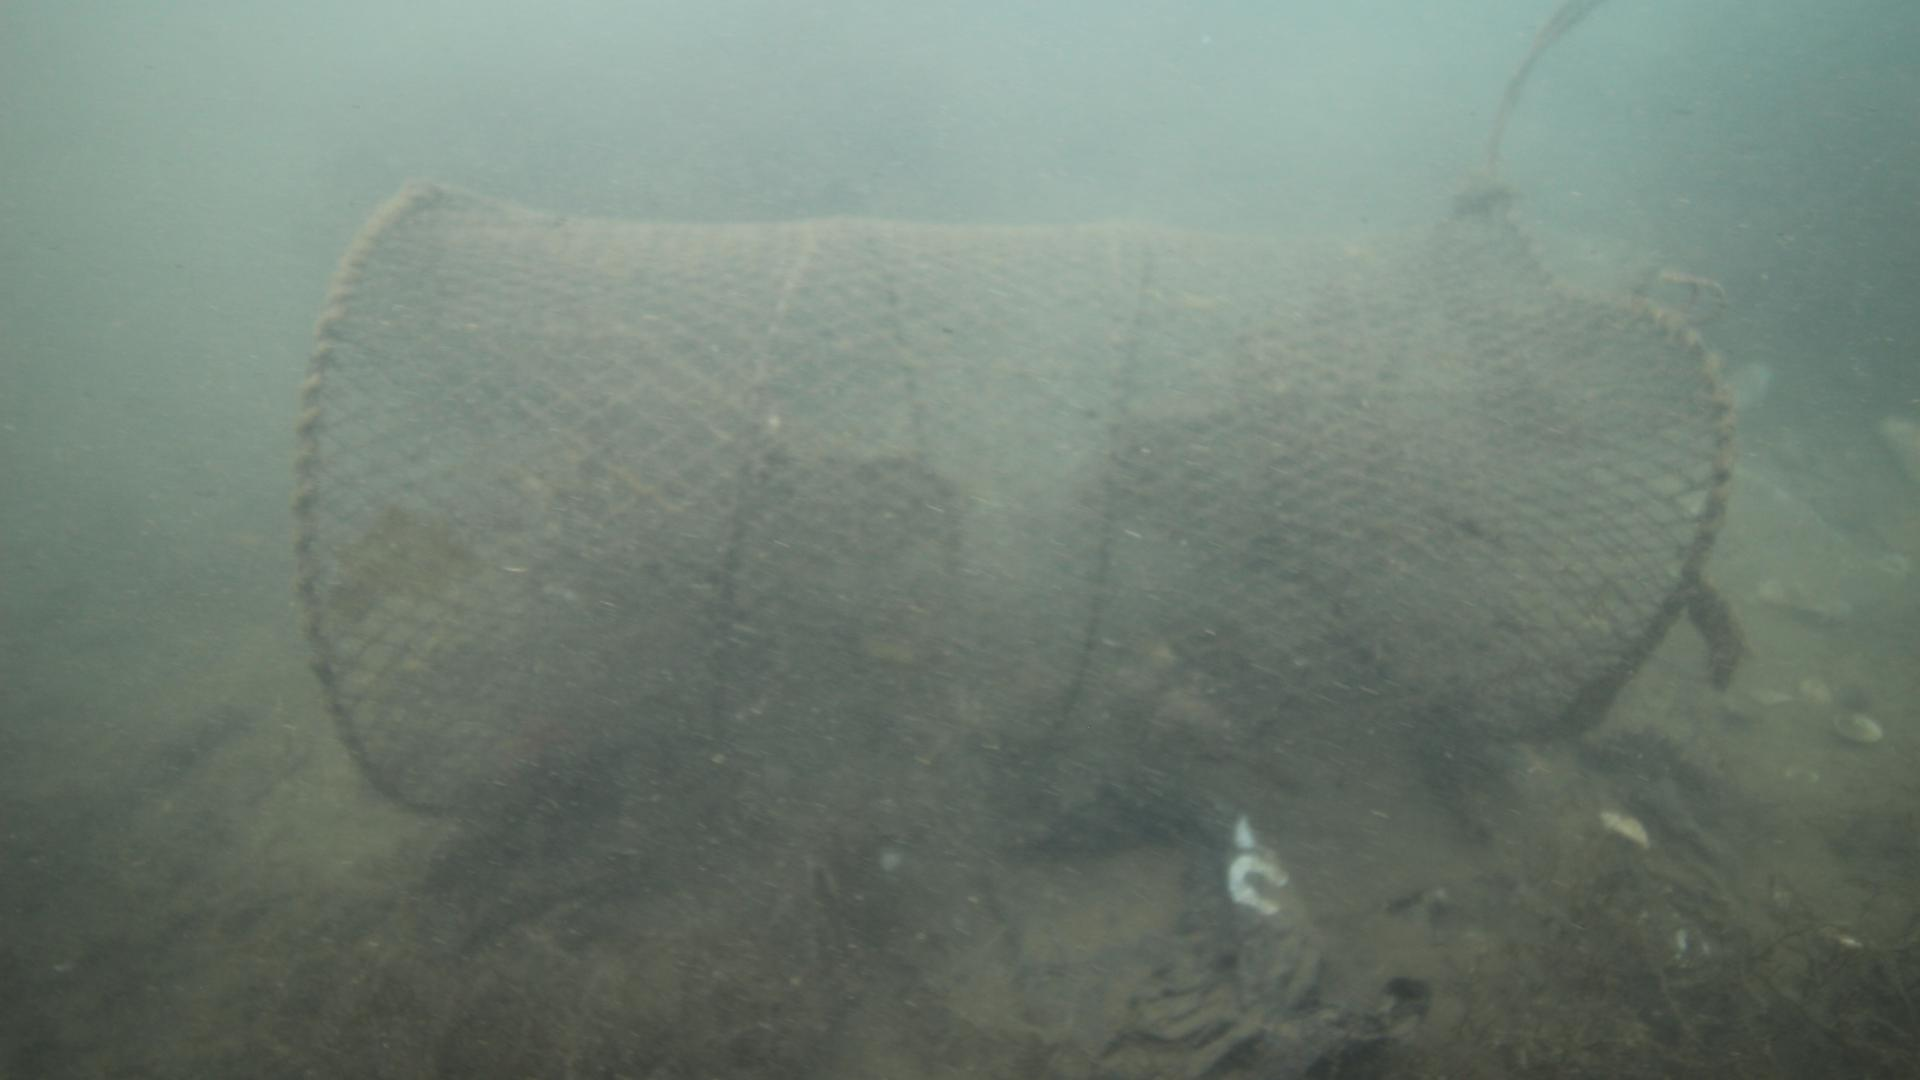spring fish trap: (287, 181, 1737, 856)
